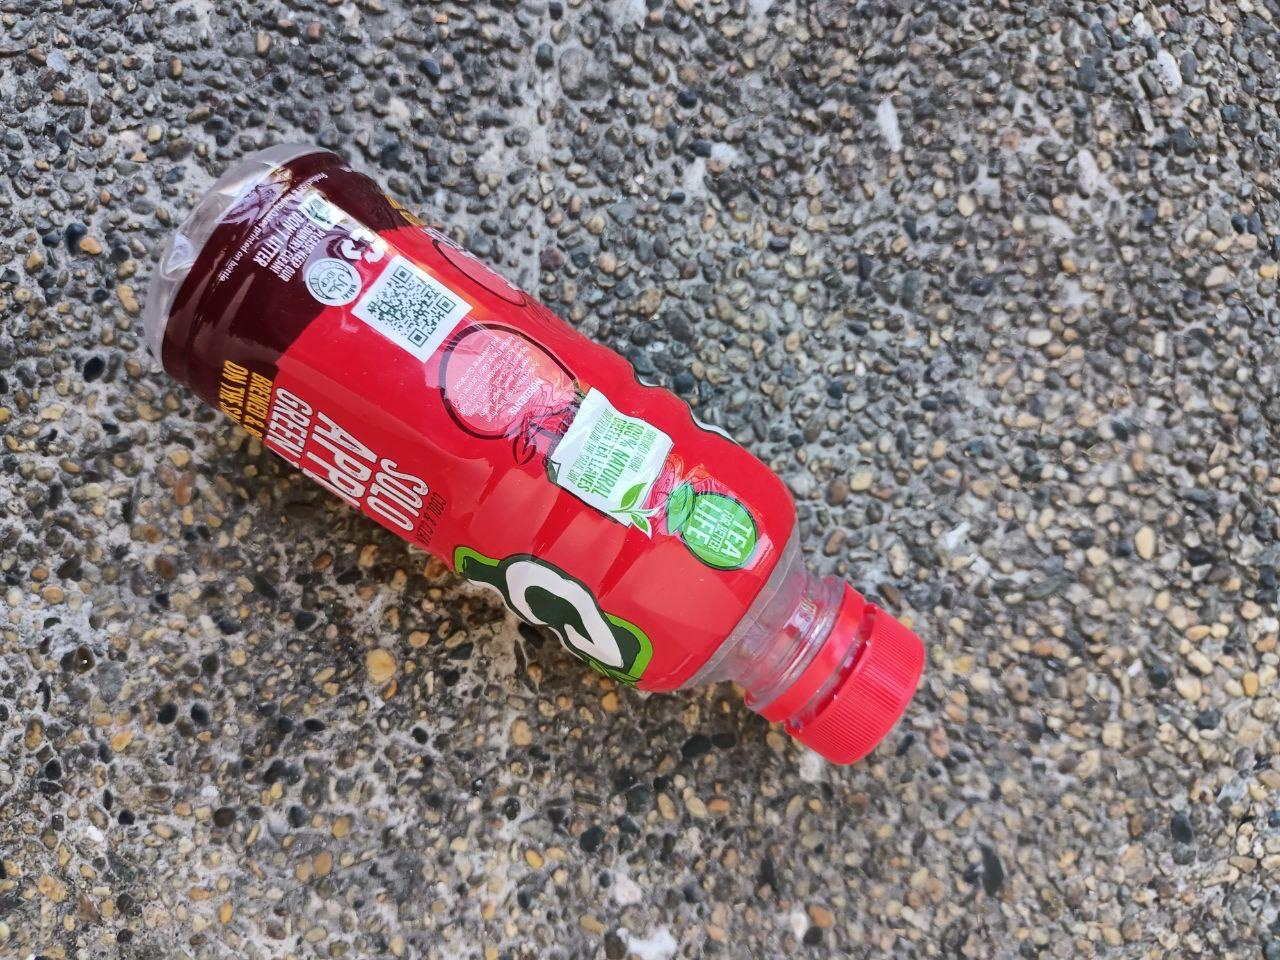plastic: (150, 144, 953, 764)
